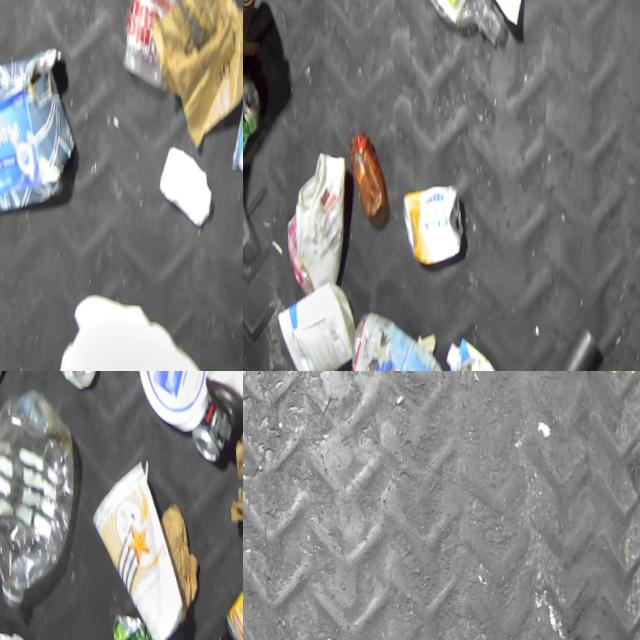can: (387, 181, 459, 265), (179, 396, 222, 461), (92, 612, 157, 640), (243, 68, 260, 153), (42, 371, 98, 390)
milk_jug: (265, 145, 349, 298), (258, 277, 351, 371)
non_white_jug: (327, 307, 467, 371), (424, 335, 505, 371)
plastic_bottle: (0, 385, 81, 612), (376, 0, 513, 48)
